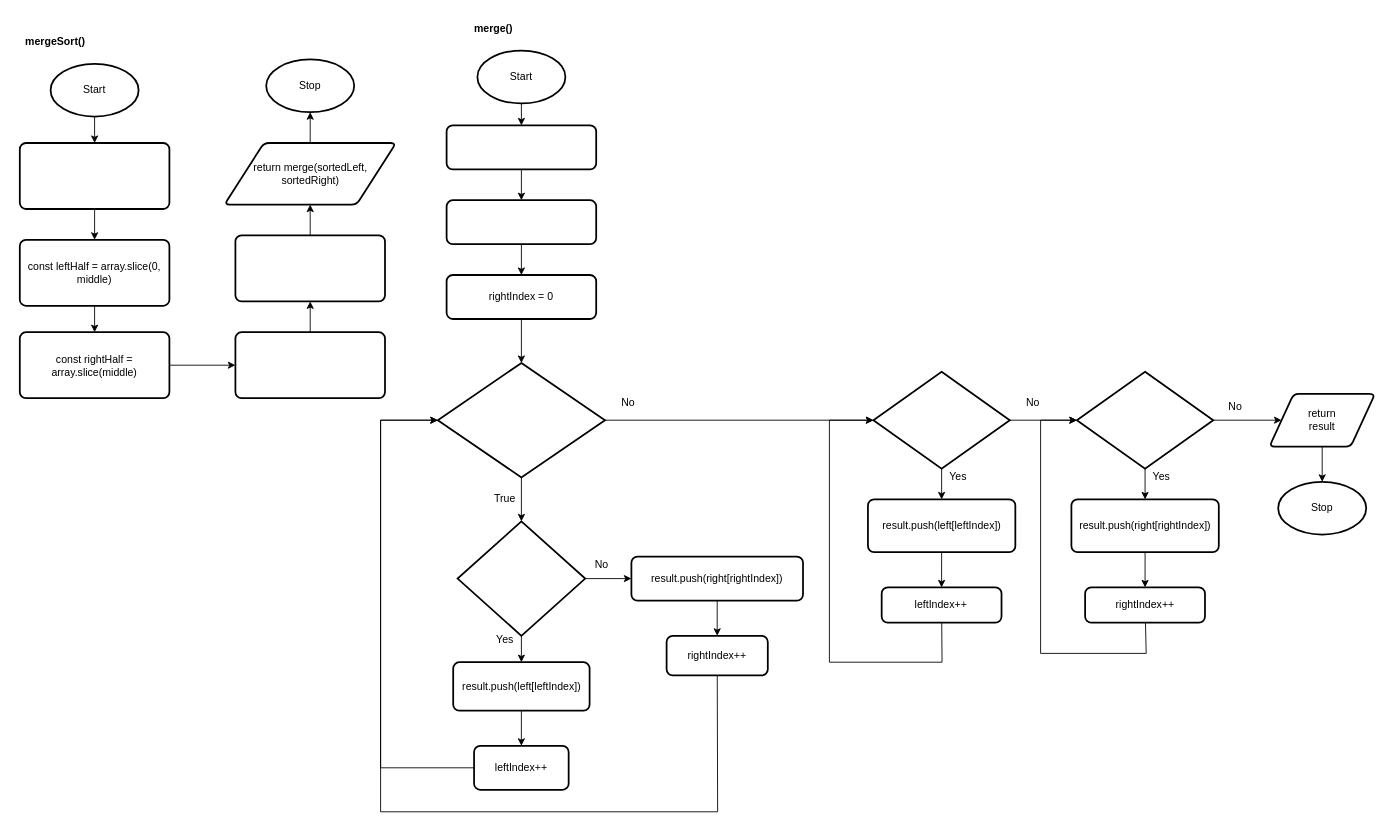
Image size: 1390x834. Some labels were removed from this diagram. Here are the shapes that lost their labels. From the top down, the centre of each, then its label:
At (521,147): "result: number[] = []".
At (94,175): "const middle = Math.floor(array.length / 2)".
At (521,222): "leftIndex = 0".
At (309,268): "const sortedRight = mergeSort(rightHalf)".
At (309,365): "const sortedLeft = mergeSort(leftHalf)".
At (520,420): "while (leftIndex < left.length && rightIndex < right.length)".
At (941,419): "while (leftIndex < left.length)".
At (1145,419): "while (rightIndex < right.length)".
At (521,578): "if (left[leftIndex] < right[rightIndex])".
